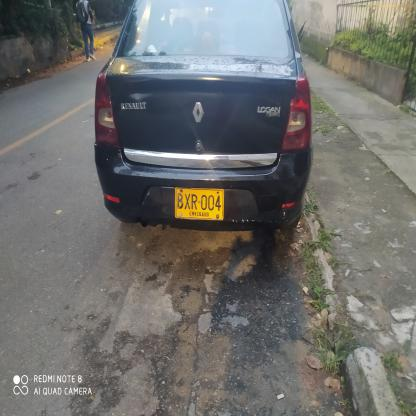placa: (172, 186, 227, 222)
